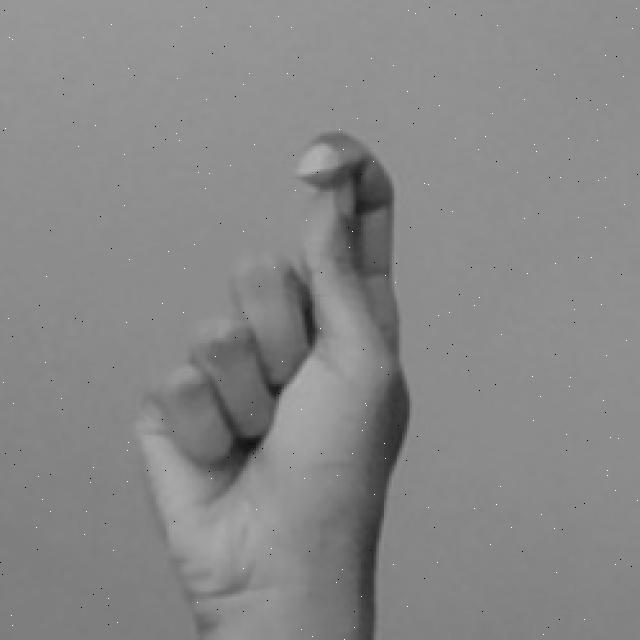T: (128, 124, 416, 640)
